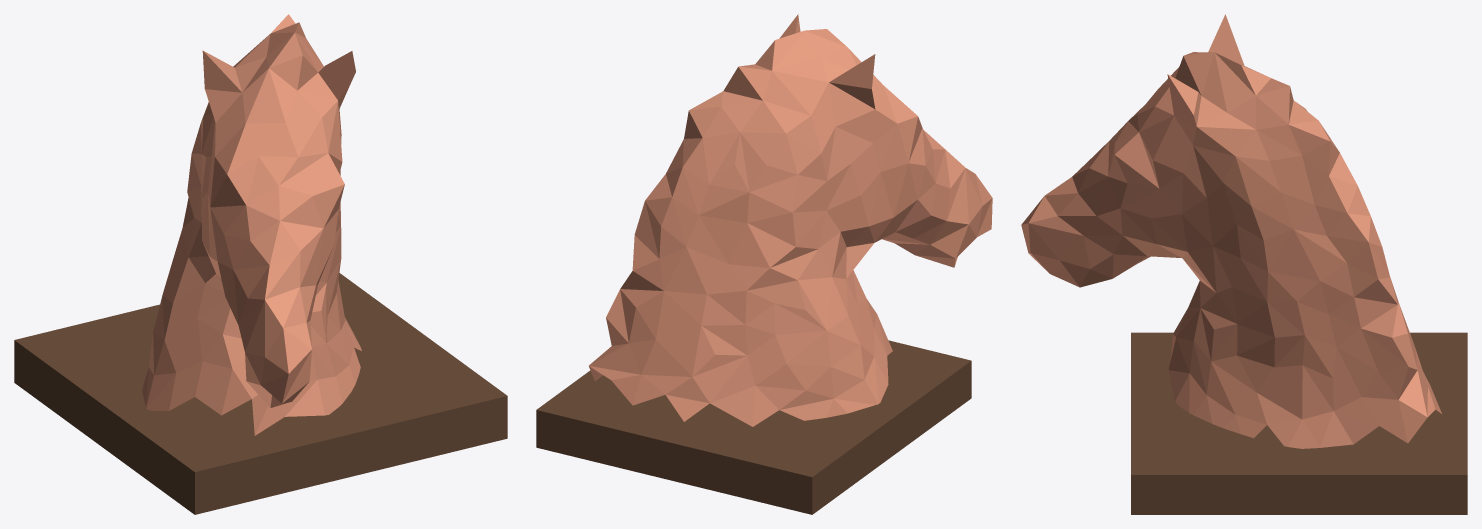
File: Toy.fbx
3 views of the same model, side by side, from view 1: azimuth 30°, elevation 25°; view 2: azimuth 150°, elevation 25°; view 3: azimuth 270°, elevation 25° (orthographic). The views are drawn at different scales.
Visible parts, largest first — view 1: Horse_Head; view 2: Horse_Head; view 3: Horse_Head.
Boxes of the visible parts, box(x1,y1,x2,y2) form: Horse_Head: box(14, 14, 507, 514); Horse_Head: box(536, 14, 992, 514); Horse_Head: box(1021, 14, 1467, 514).
Size of the model in its own units: 25.09 by 31.75 by 33.27.
